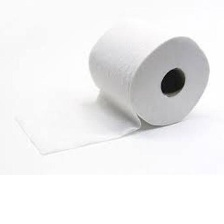tissue: (9, 13, 215, 160)
